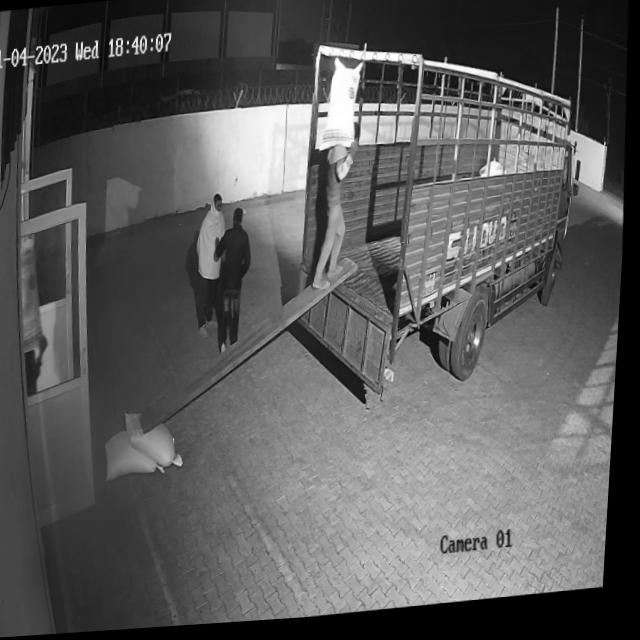sack: (317, 59, 365, 152), (126, 408, 184, 474), (109, 429, 166, 482)
